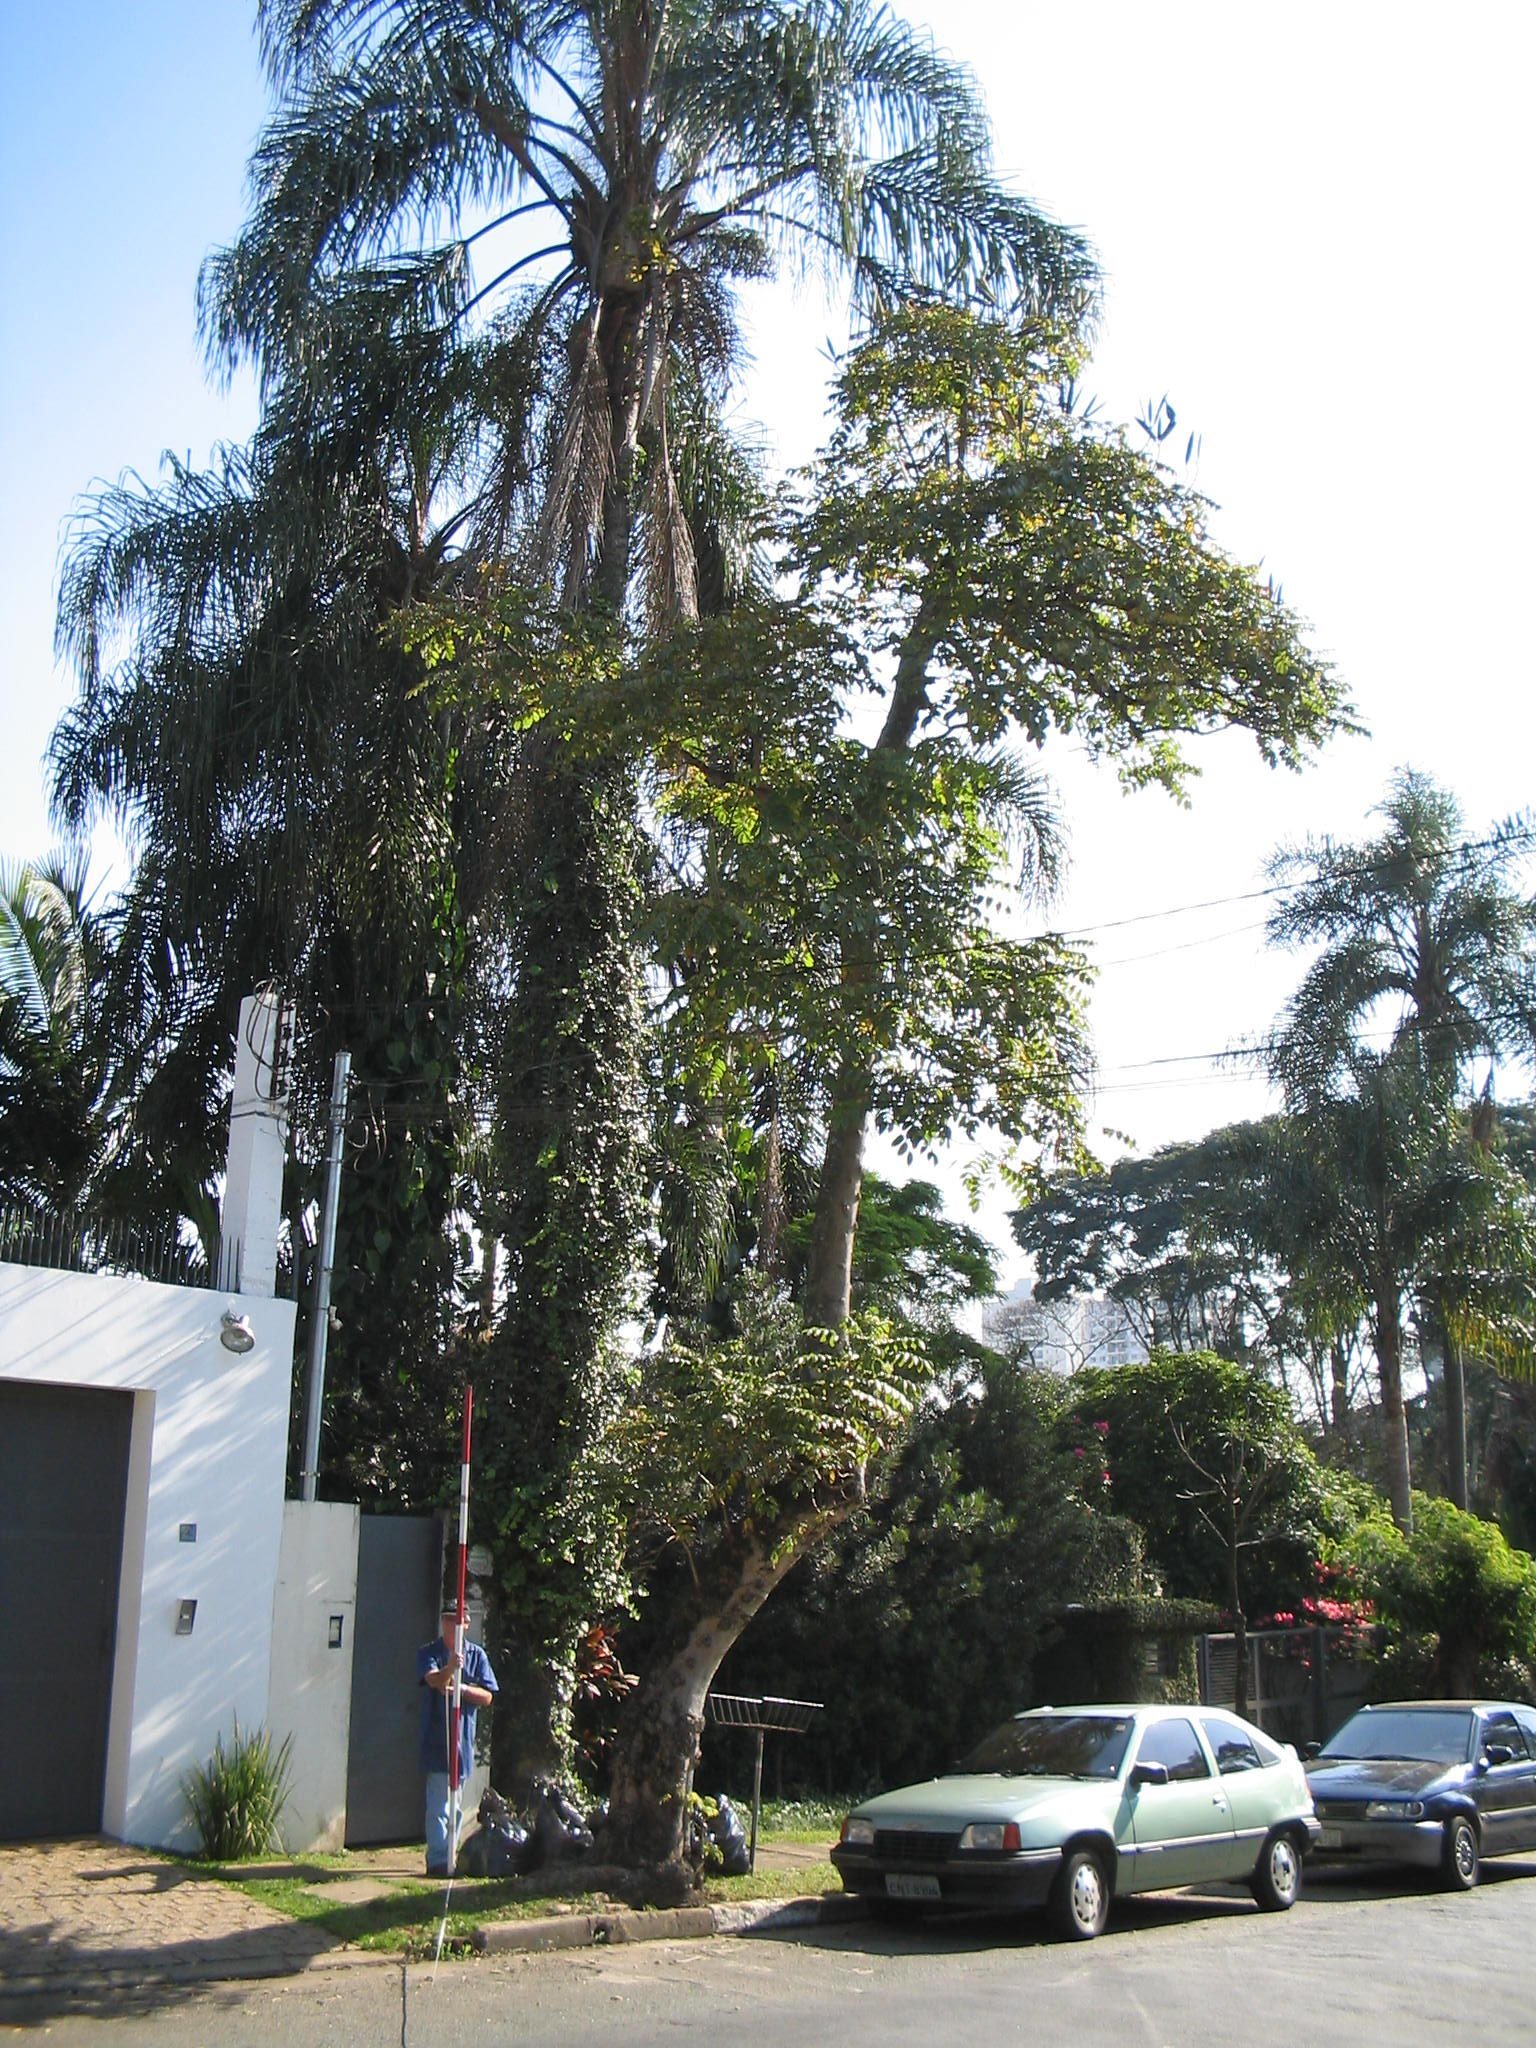stick: (431, 1390, 481, 1882)
